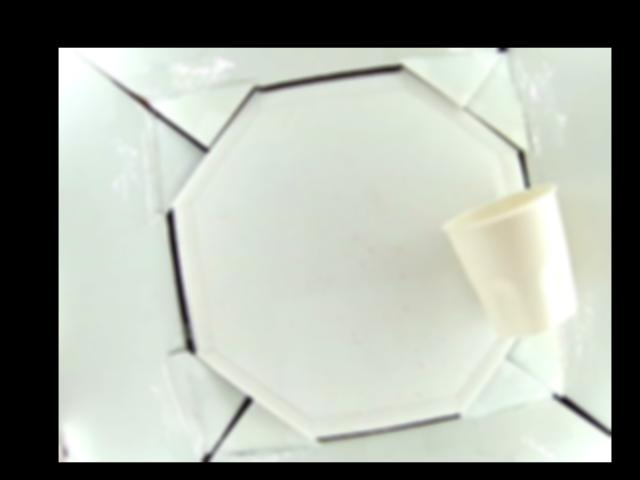Cup: (442, 185, 581, 337)
